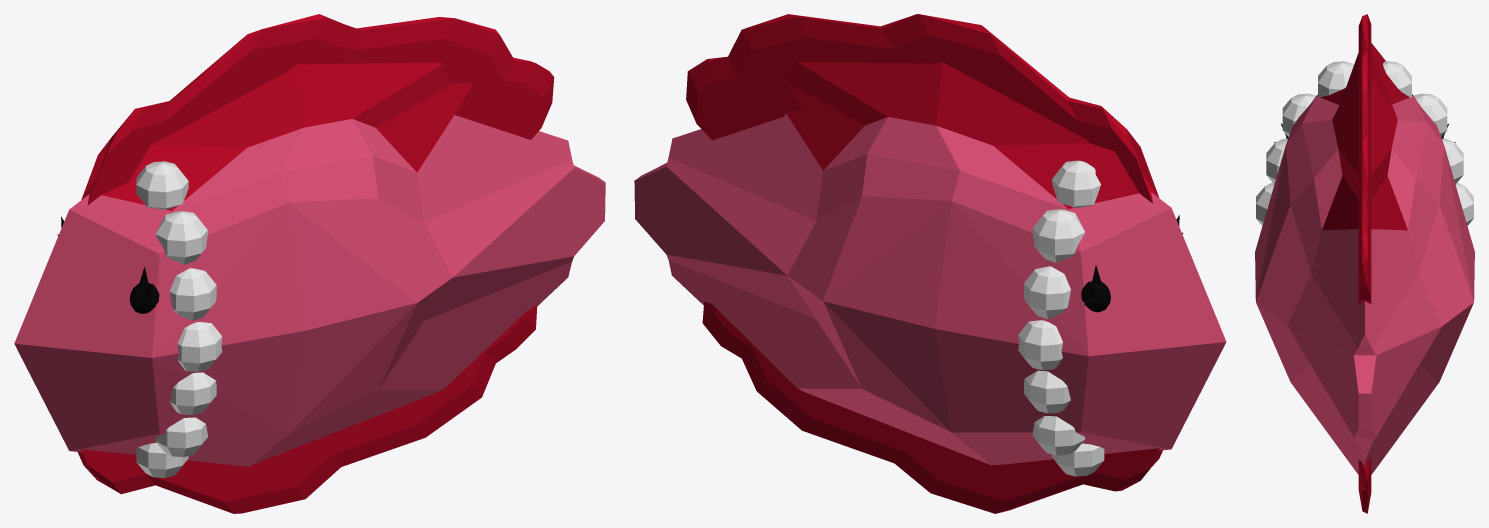
Rendered from ex_body.glb.
3 renders of one model, left to right at view 1: azimuth 30°, elevation 25°; view 2: azimuth 150°, elevation 25°; view 3: azimuth 270°, elevation 25°, orthographic. The views are drawn at different scales.
Visible parts, largest first — view 1: Cube.003, BézierCurve.001, BézierCurve, Sphere.001, Sphere.002; view 2: Cube.003, BézierCurve.001, BézierCurve, Sphere, Sphere.003; view 3: Cube.003, BézierCurve.001, Sphere.001, Sphere, BézierCurve.
Part boxes in pixels (box(x1,y1,x2,y2)): Cube.003: box(14, 62, 605, 466); BézierCurve.001: box(81, 14, 554, 204); BézierCurve: box(77, 304, 537, 513); Sphere.001: box(136, 161, 222, 371); Sphere.002: box(136, 322, 222, 478); Cube.003: box(634, 62, 1226, 465); BézierCurve.001: box(686, 14, 1159, 203); BézierCurve: box(702, 301, 1162, 513); Sphere: box(1018, 160, 1100, 370); Sphere.003: box(1022, 320, 1104, 476); Cube.003: box(1255, 43, 1474, 474); BézierCurve.001: box(1358, 14, 1371, 303); Sphere.001: box(1256, 61, 1353, 225); Sphere: box(1383, 61, 1473, 225); BézierCurve: box(1358, 456, 1371, 513).
Size of the model in its own units: 2.46 by 1.93 by 0.8626.
